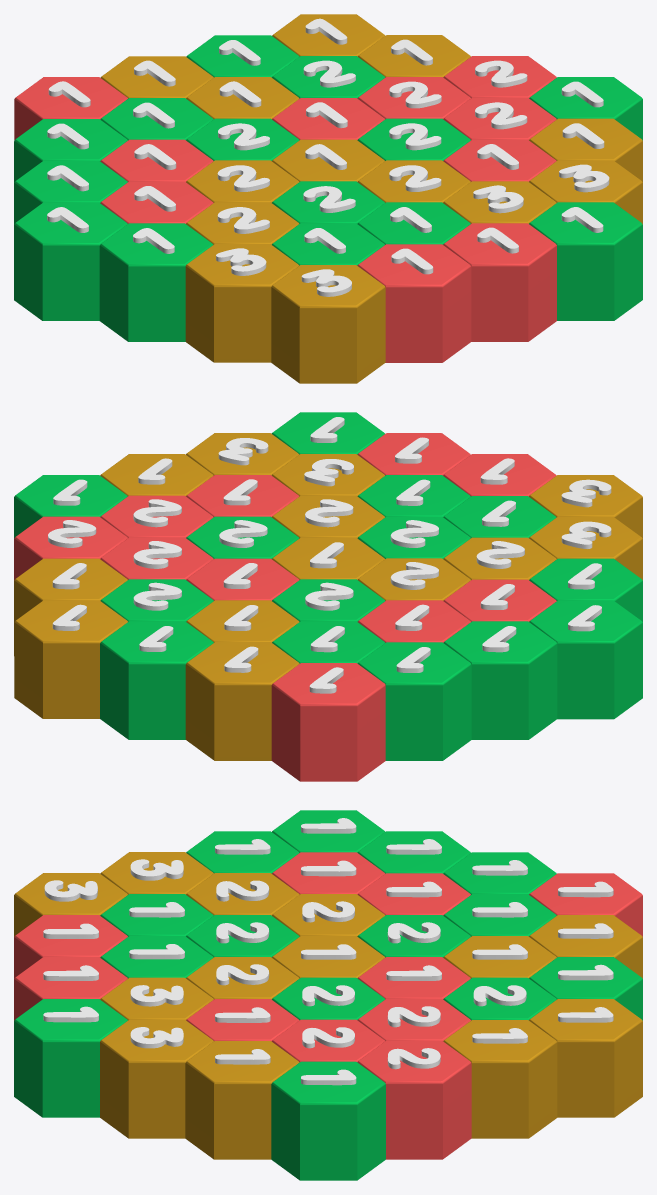
The model's file is basic_level.fbx.
3 renders of one model, top to bottom at view 1: azimuth 30°, elevation 25°; view 2: azimuth 150°, elevation 25°; view 3: azimuth 270°, elevation 25°, orthographic.
Parts seen in each view (by area): view 1: land20, land47, land51, land48, land52, land49, land54, land37, land44, land59, land46, land60 (+25 smaller); view 2: land60, land59, land58, land46, land49, land57, land56, land53, land35, land48, land47, land20 (+25 smaller); view 3: land55, land44, land53, land35, land37, land54, land57, land20, land51, land52, land58, land60 (+25 smaller).
Boxes of the visible parts, x1=… form: land20: x1=271, y1=265, x2=385, y2=383; land47: x1=185, y1=244, x2=299, y2=362; land51: x1=357, y1=244, x2=471, y2=362; land48: x1=99, y1=223, x2=213, y2=341; land52: x1=443, y1=223, x2=556, y2=341; land49: x1=14, y1=202, x2=127, y2=320; land54: x1=529, y1=202, x2=642, y2=320; land37: x1=529, y1=160, x2=642, y2=224; land44: x1=529, y1=118, x2=642, y2=182; land59: x1=14, y1=160, x2=127, y2=224; land46: x1=14, y1=119, x2=127, y2=182; land60: x1=14, y1=77, x2=127, y2=139; land60: x1=271, y1=663, x2=385, y2=781; land59: x1=443, y1=621, x2=557, y2=739; land58: x1=185, y1=642, x2=299, y2=760; land46: x1=358, y1=642, x2=471, y2=760; land49: x1=529, y1=600, x2=642, y2=719; land57: x1=14, y1=600, x2=127, y2=718; land56: x1=100, y1=621, x2=213, y2=739; land53: x1=14, y1=558, x2=127, y2=655; land35: x1=14, y1=516, x2=127, y2=580; land48: x1=529, y1=558, x2=642, y2=622; land47: x1=529, y1=516, x2=642, y2=580; land20: x1=529, y1=475, x2=642, y2=538; land55: x1=271, y1=1061, x2=385, y2=1180; land44: x1=185, y1=1041, x2=299, y2=1159; land53: x1=443, y1=1020, x2=557, y2=1138; land35: x1=357, y1=1040, x2=471, y2=1159; land37: x1=100, y1=1019, x2=213, y2=1138; land54: x1=14, y1=999, x2=127, y2=1117; land57: x1=529, y1=999, x2=642, y2=1117; land20: x1=14, y1=873, x2=127, y2=936; land51: x1=14, y1=915, x2=127, y2=978; land52: x1=14, y1=957, x2=127, y2=1020; land58: x1=529, y1=915, x2=642, y2=978; land60: x1=529, y1=873, x2=642, y2=936.
Size of the model in its own units: 25.63 by 3.36 by 23.22.
